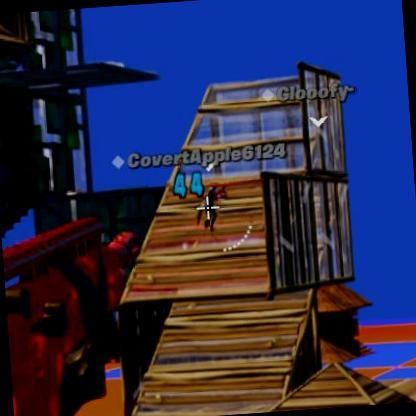person: (194, 180, 220, 233)
